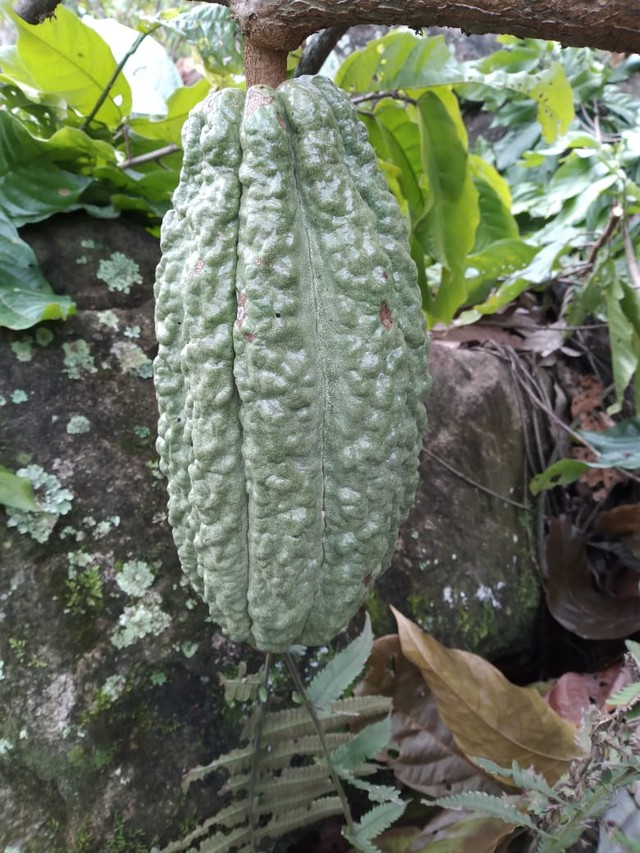Health: (147, 66, 437, 662)
